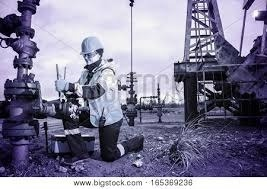helmet: (79, 37, 102, 54)
person with partial safety: (69, 36, 132, 164)
